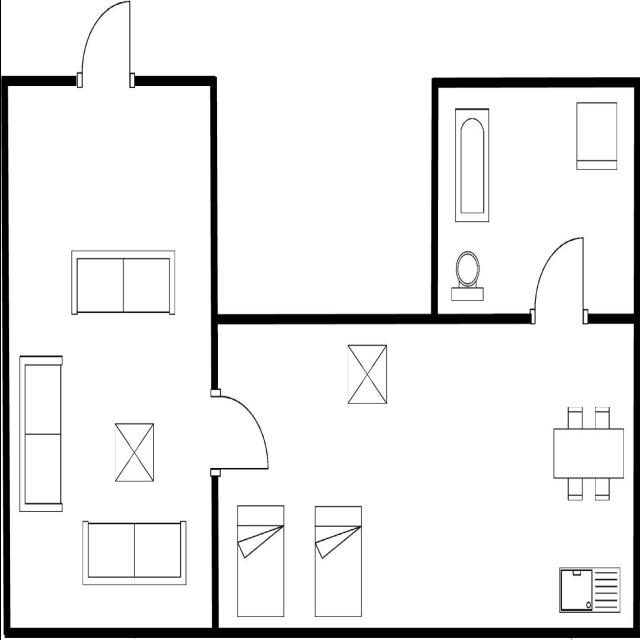bed: (232, 498, 286, 622), (311, 498, 365, 620)
coffee_table: (344, 339, 390, 409), (112, 416, 156, 485)
dining_table: (548, 399, 628, 506)
large_sink: (448, 246, 487, 306)
large_sofa: (14, 349, 66, 519), (78, 516, 190, 592), (68, 244, 178, 320)
sink: (556, 559, 624, 617)
small_sofa: (573, 95, 620, 177)
tub: (452, 102, 492, 226)
